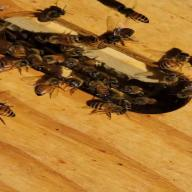Bee: (78, 91, 131, 128), (44, 25, 96, 51), (32, 68, 66, 104), (94, 23, 137, 48), (0, 100, 35, 124), (158, 42, 186, 70)
